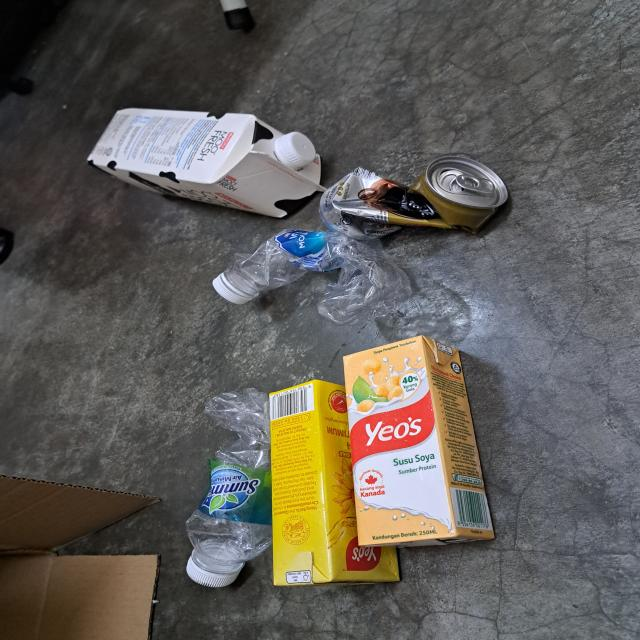can: (318, 156, 509, 242)
cardboard: (0, 471, 160, 640)
drink carton: (342, 336, 496, 548), (268, 378, 399, 586), (88, 107, 328, 218)
plastic bottle: (224, 227, 413, 326), (186, 387, 270, 563)
plastic bottle cap: (184, 556, 244, 588), (276, 131, 316, 168), (212, 275, 252, 305)
pop tab: (455, 175, 496, 193)
